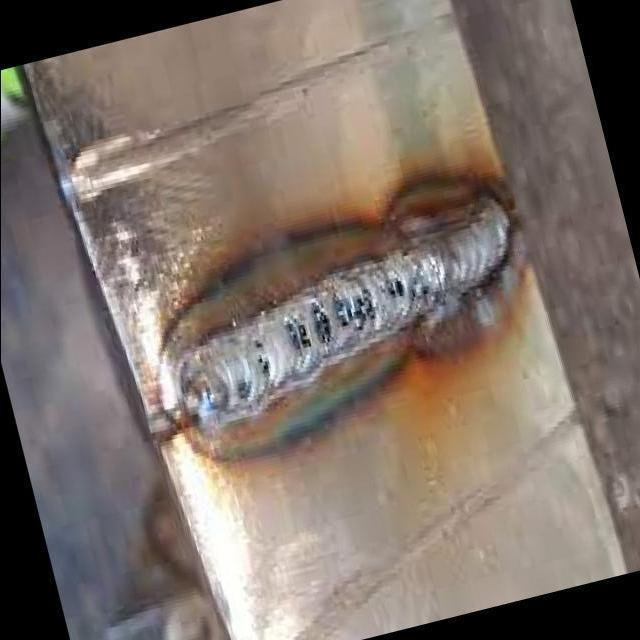defect: (324, 283, 380, 340), (306, 298, 338, 351), (282, 312, 316, 352), (252, 340, 275, 379), (383, 268, 407, 303)
